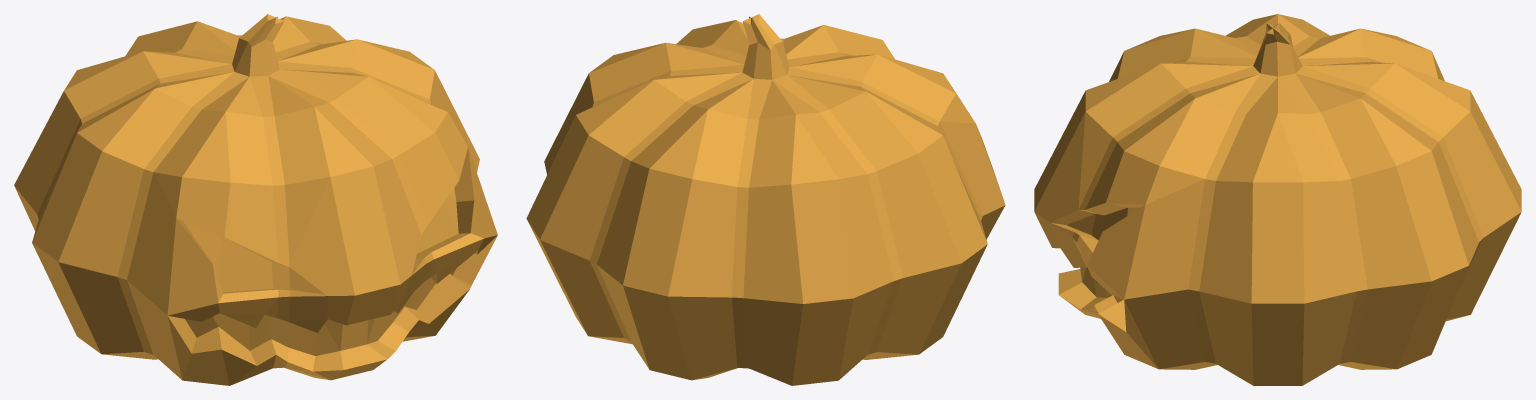
The model's file is pumpkin-carved-a.fbx.
3 views of the same model, side by side, from view 1: azimuth 30°, elevation 25°; view 2: azimuth 150°, elevation 25°; view 3: azimuth 270°, elevation 25° (orthographic).
Visible parts, largest first — view 1: pumpkin-carved-a; view 2: pumpkin-carved-a; view 3: pumpkin-carved-a.
Part boxes in pixels (<box>): pumpkin-carved-a: <box>14,14,497,385</box>; pumpkin-carved-a: <box>526,14,1005,385</box>; pumpkin-carved-a: <box>1034,14,1521,385</box>.
Size of the model in its own units: 0.6149 by 0.4425 by 0.6149.
